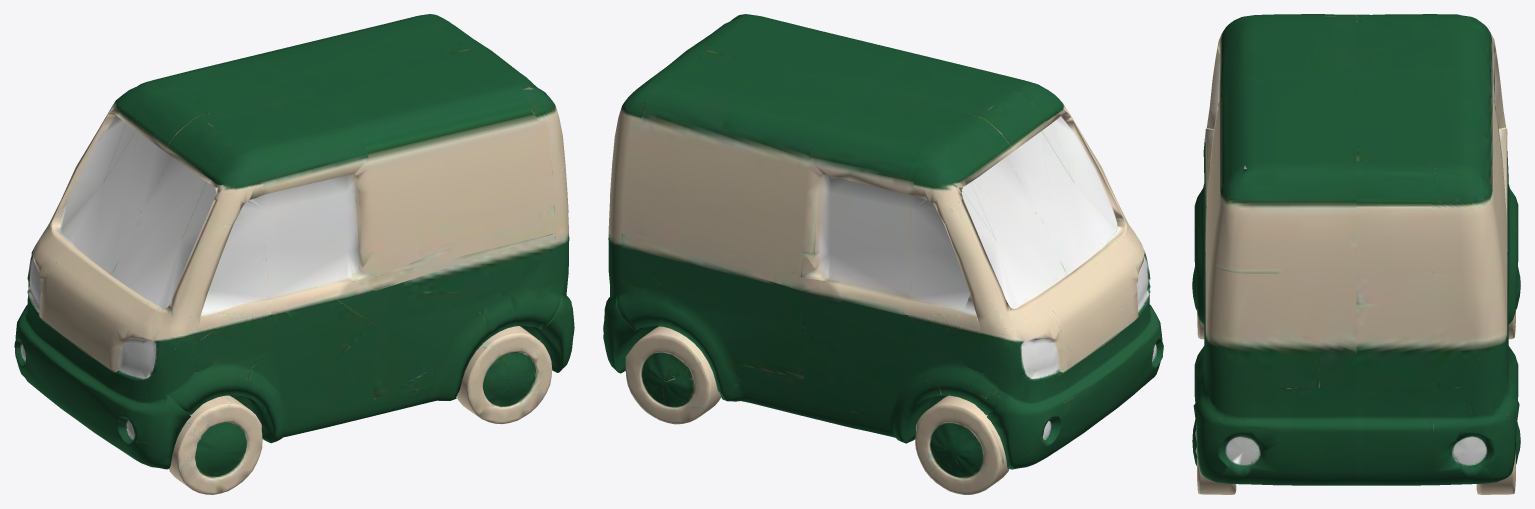
File: van.glb
The picture shows the model from 3 angles, left to right: view 1: azimuth 30°, elevation 25°; view 2: azimuth 150°, elevation 25°; view 3: azimuth 270°, elevation 25°; orthographic projection. The views are drawn at different scales.
Size of the model in its own units: 0.9551 by 0.6348 by 0.5464.
Materials: 1 (1 with a texture image).
